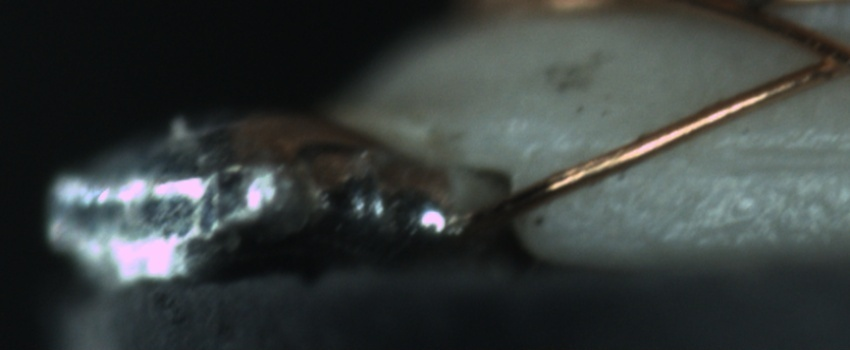CL: (793, 27, 849, 85)
DL: (671, 123, 849, 188)
